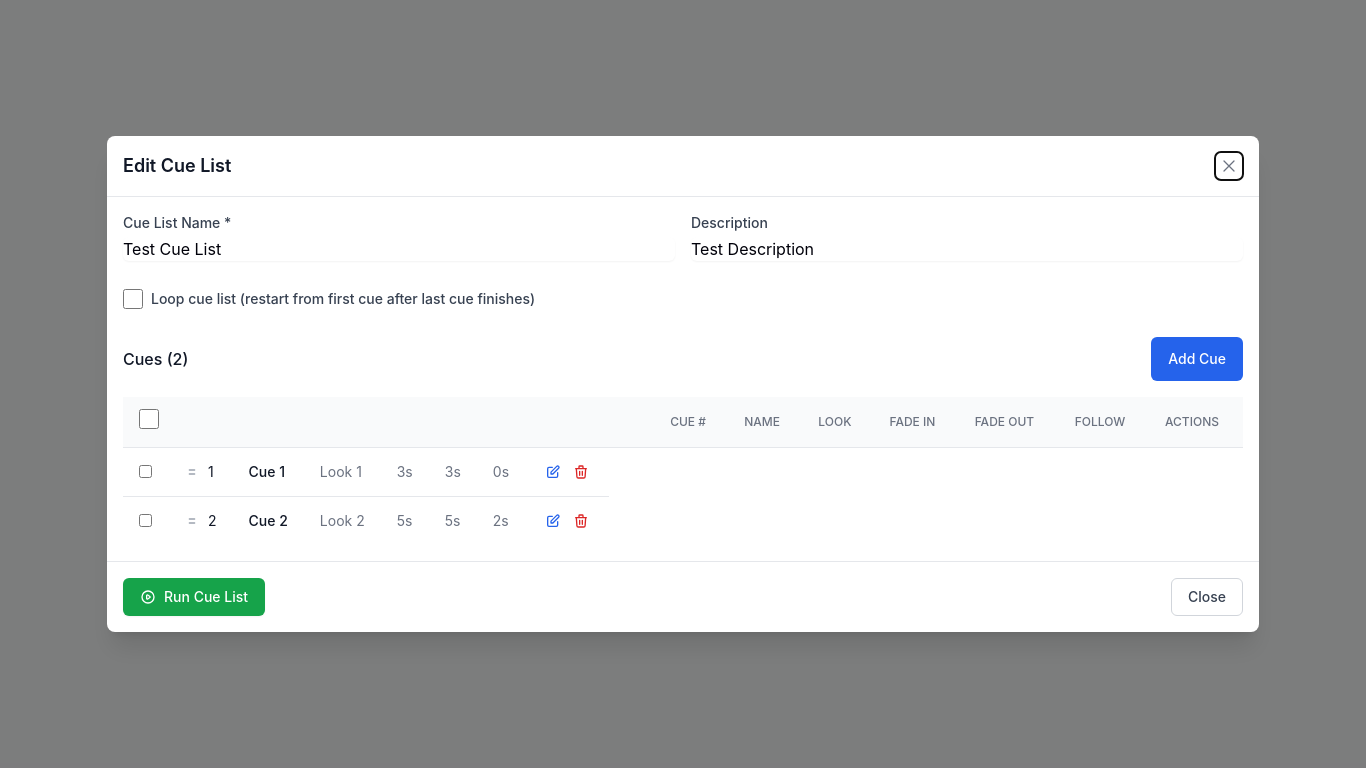
Test: CueListEditorModal › add cue functionality › toggles add cue form
The width and height of the screenshot is (1366, 768).
Click the button "Add Cue".
click(1197, 359)  # box [1151,337,1243,381]
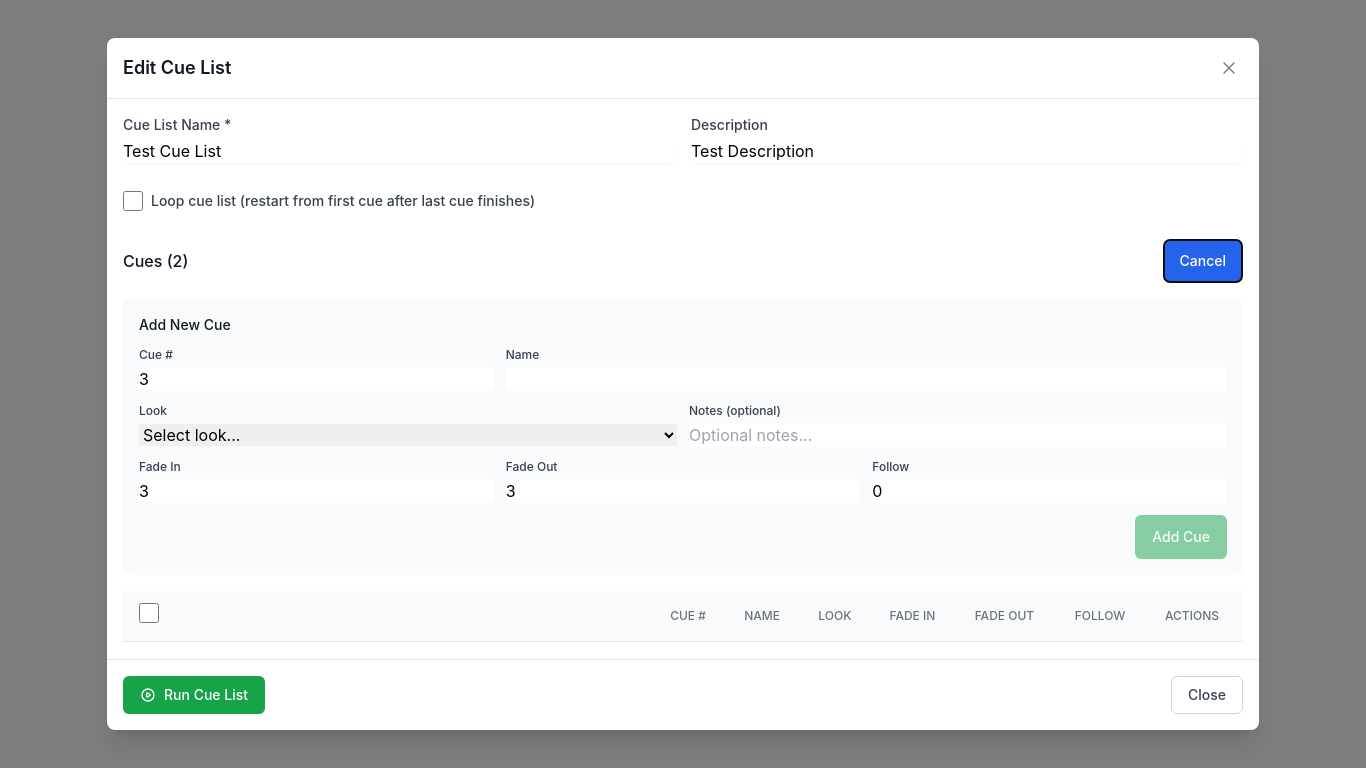
Result: the heading "Add New Cue" is shown at [139,316,231,333]
Result: the button "Cancel" is shown at [1162,239,1243,283]
